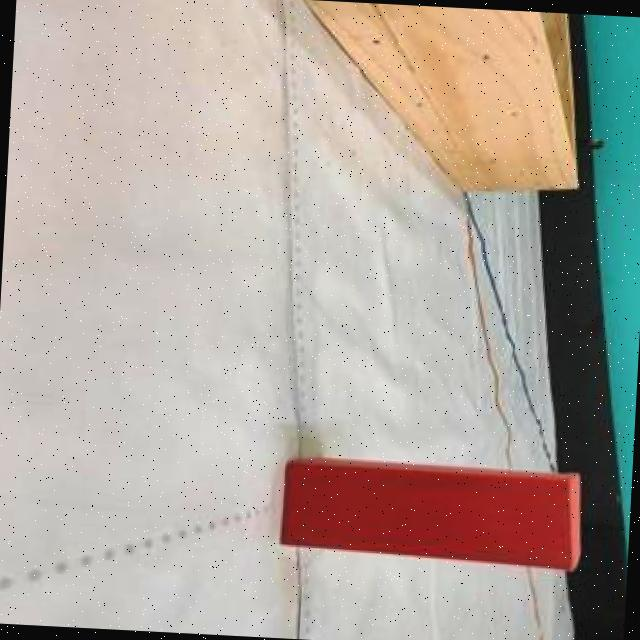redbox: (278, 454, 588, 572)
